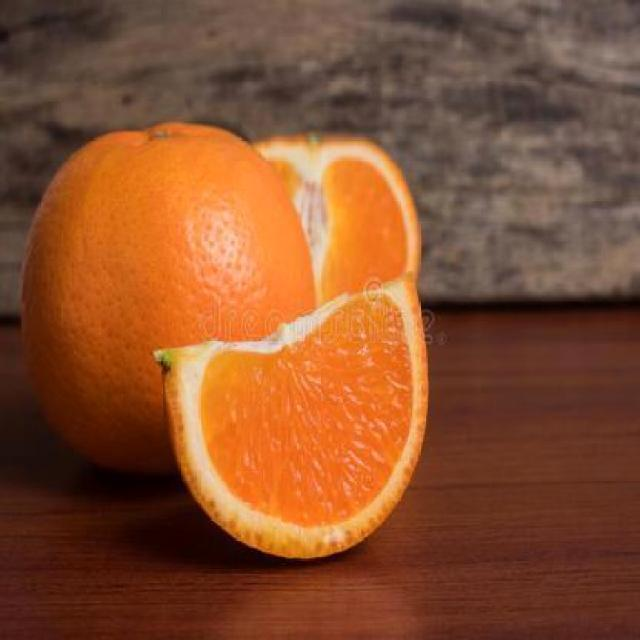Jeruk Sudah Matang: (23, 122, 320, 487)
